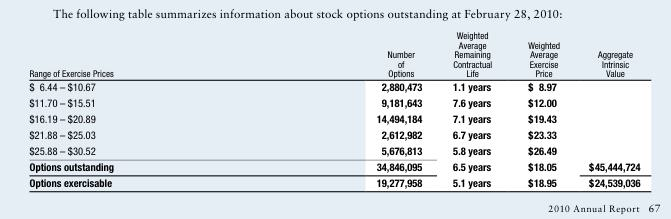table: (28, 29, 639, 188)
table column: (28, 29, 244, 188), (244, 29, 436, 188), (436, 29, 509, 188), (573, 29, 639, 188), (509, 29, 573, 188)
table column header: (28, 29, 639, 79)
table row: (28, 29, 639, 79), (28, 94, 639, 110), (28, 110, 639, 126), (28, 126, 639, 142), (28, 142, 639, 158), (28, 158, 639, 174), (28, 79, 639, 94), (28, 174, 639, 188)
